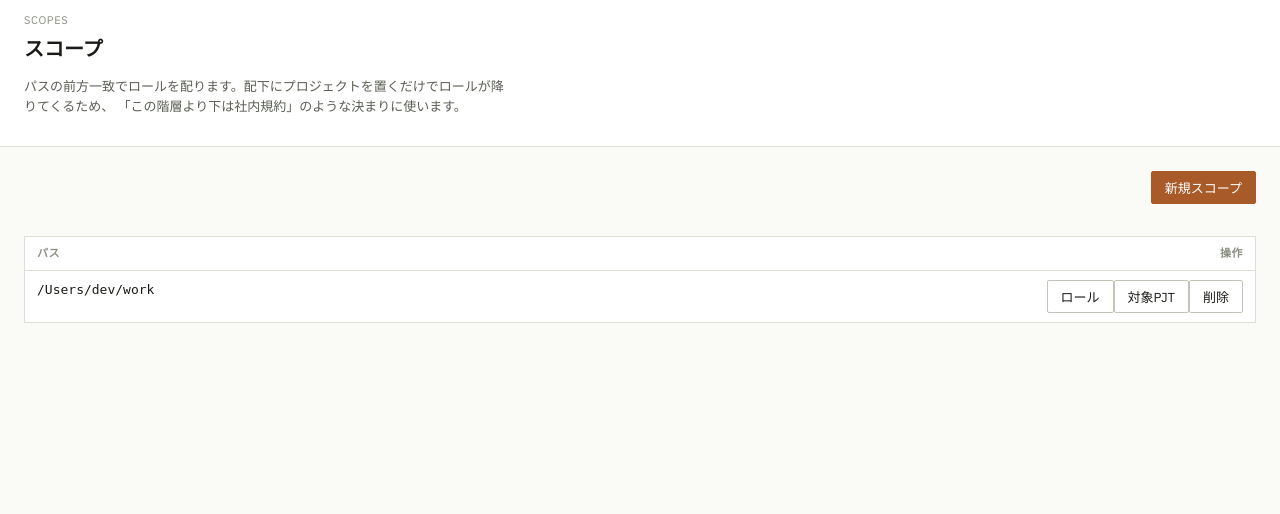
Test case: Scopes › lists the projects a scope reaches
Click the button "対象PJT". click: (1151, 297)
box: [1114, 280, 1189, 313]
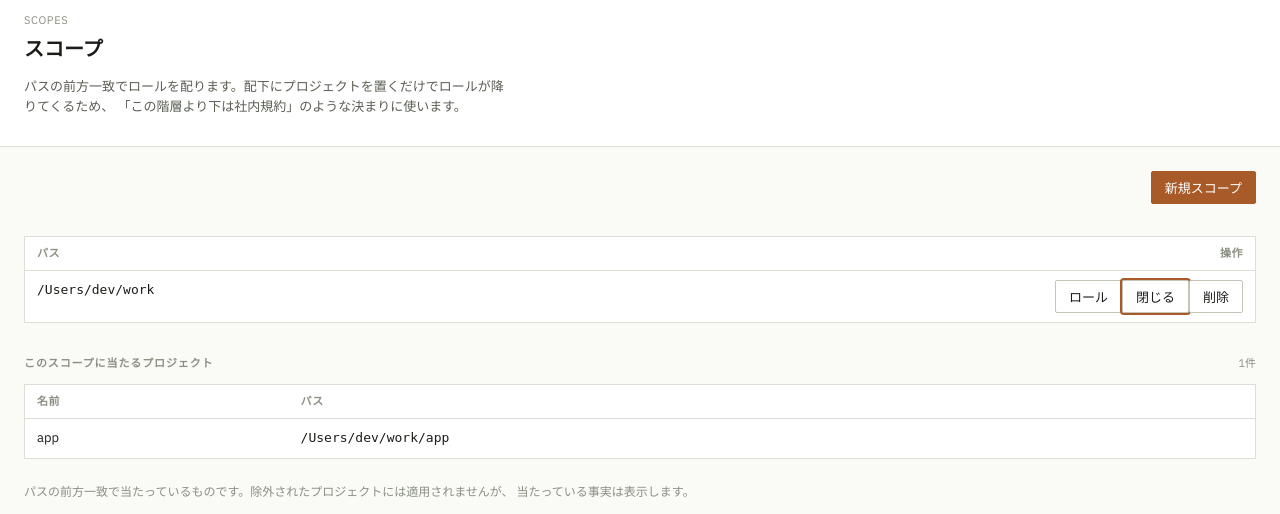
expect the text "app" is shown: met, box [25, 419, 289, 458]
expect the text "/Users/dev/work/app" is shown: met, box [301, 430, 449, 446]
